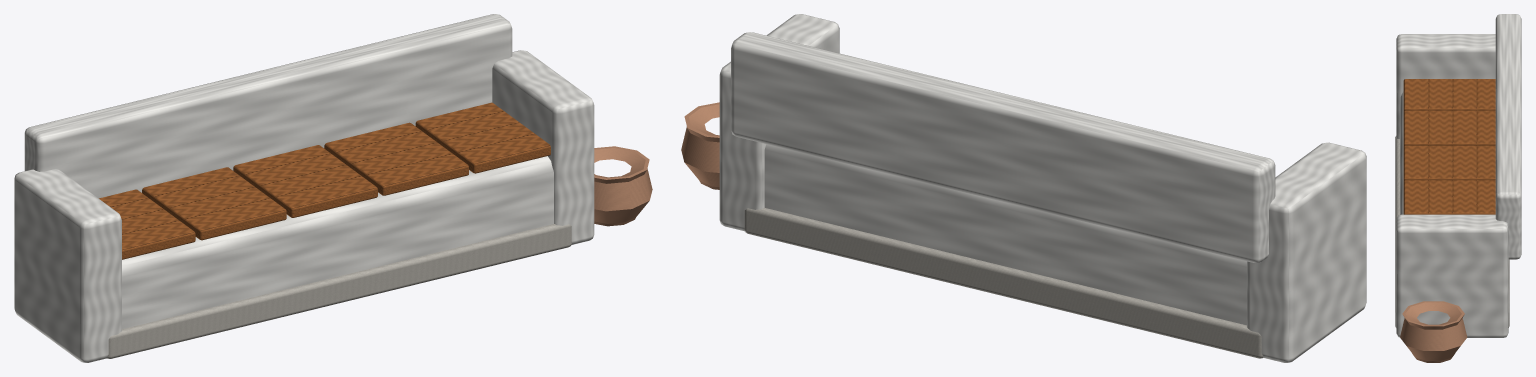
File: greek-island-village-and-harbour-stone-bench-6f200bb5__37121.glb
3 renders of one model, left to right at view 1: azimuth 30°, elevation 25°; view 2: azimuth 150°, elevation 25°; view 3: azimuth 270°, elevation 25°, orthographic. The views are drawn at different scales.
Parts seen in each view (by area): view 1: stone-bench; view 2: stone-bench; view 3: stone-bench.
Boxes of the visible parts, box(x1,y1,x2,y2) form: stone-bench: box(14, 14, 652, 362); stone-bench: box(681, 14, 1366, 362); stone-bench: box(1395, 14, 1521, 362).
Bounding box in the file's own units: 2.83 × 0.82 × 0.6751.
4 materials, 4 textured.
